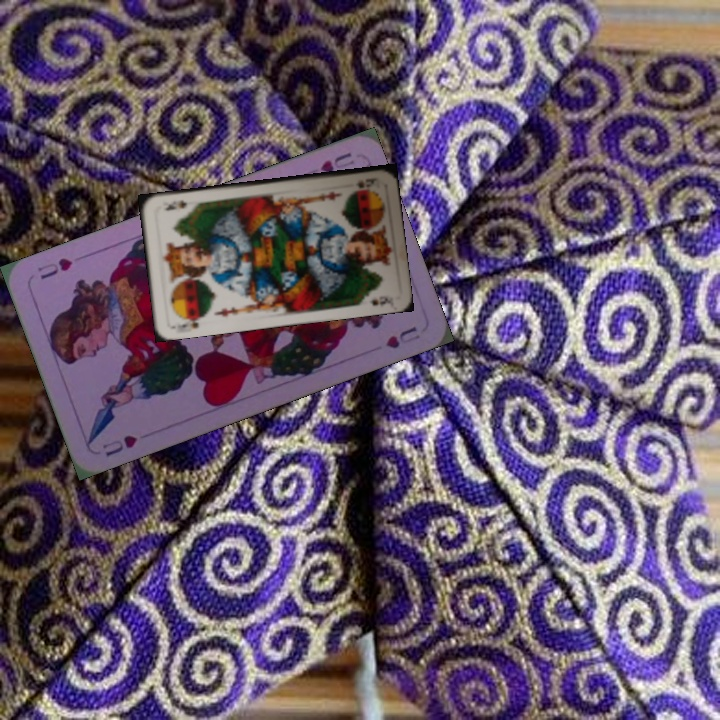HU: (98, 431, 140, 459), (316, 148, 358, 176)
SK: (177, 312, 208, 331), (352, 174, 381, 191)
